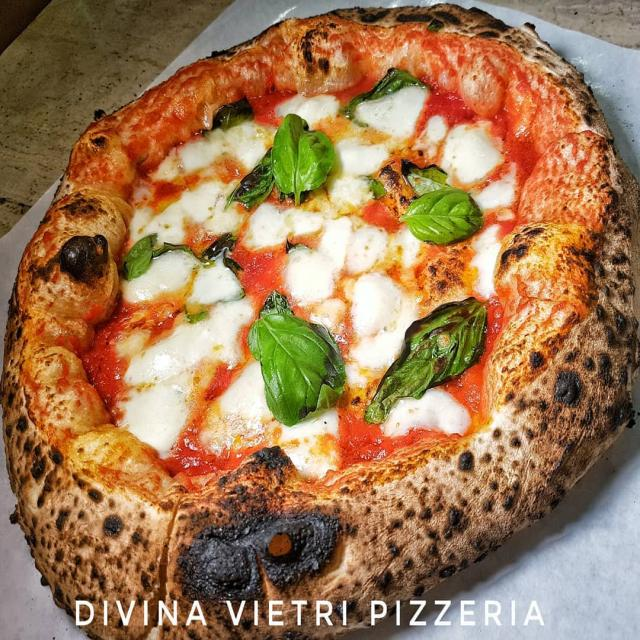basil: (360, 294, 492, 428), (246, 305, 348, 424), (271, 112, 337, 208), (396, 192, 485, 246), (231, 154, 279, 212), (120, 232, 158, 279)
pizza: (0, 6, 640, 640)
